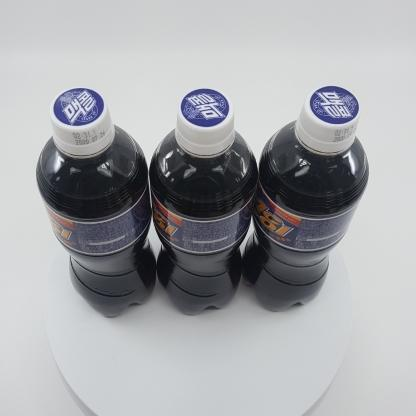-----500ML: (239, 85, 369, 311), (36, 86, 157, 317), (149, 87, 258, 315)
